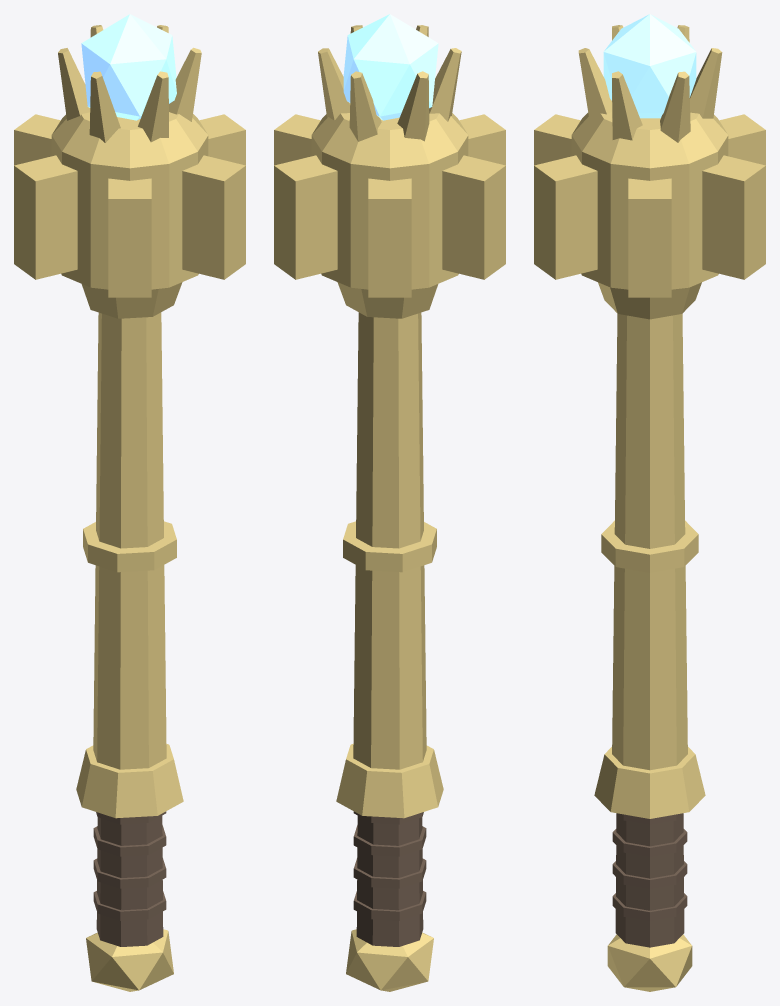
Rendered from sceptre_golden.glb.
3 renders of one model, left to right at view 1: azimuth 30°, elevation 25°; view 2: azimuth 150°, elevation 25°; view 3: azimuth 270°, elevation 25°, orthographic.
Visible parts, largest first — view 1: sceptre_golden; view 2: sceptre_golden; view 3: sceptre_golden.
Boxes of the visible parts, left/top/right/bottom form: sceptre_golden: left=14, top=14, right=245, bottom=991; sceptre_golden: left=274, top=14, right=505, bottom=991; sceptre_golden: left=534, top=14, right=765, bottom=991.
Bounding box in the file's own units: 0.48 × 2.13 × 0.4582.
